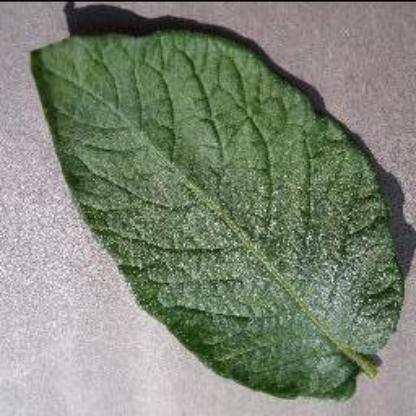Healthy-plant: (29, 27, 401, 400)
